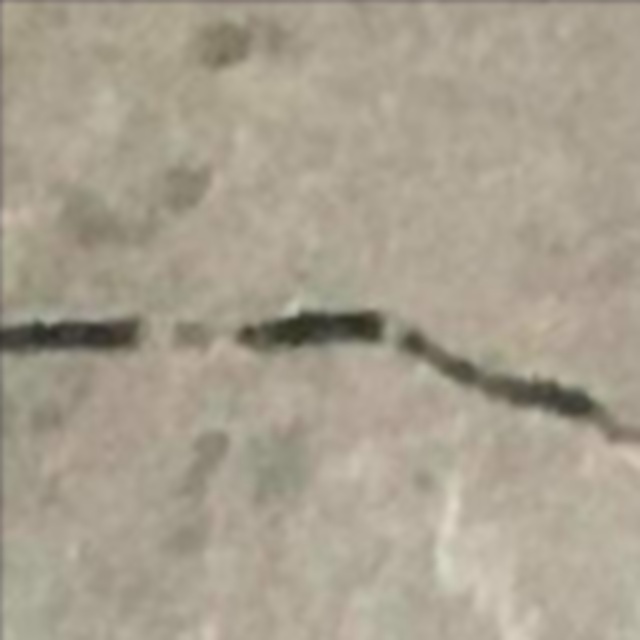SurfaceCrack: (2, 230, 638, 508)
